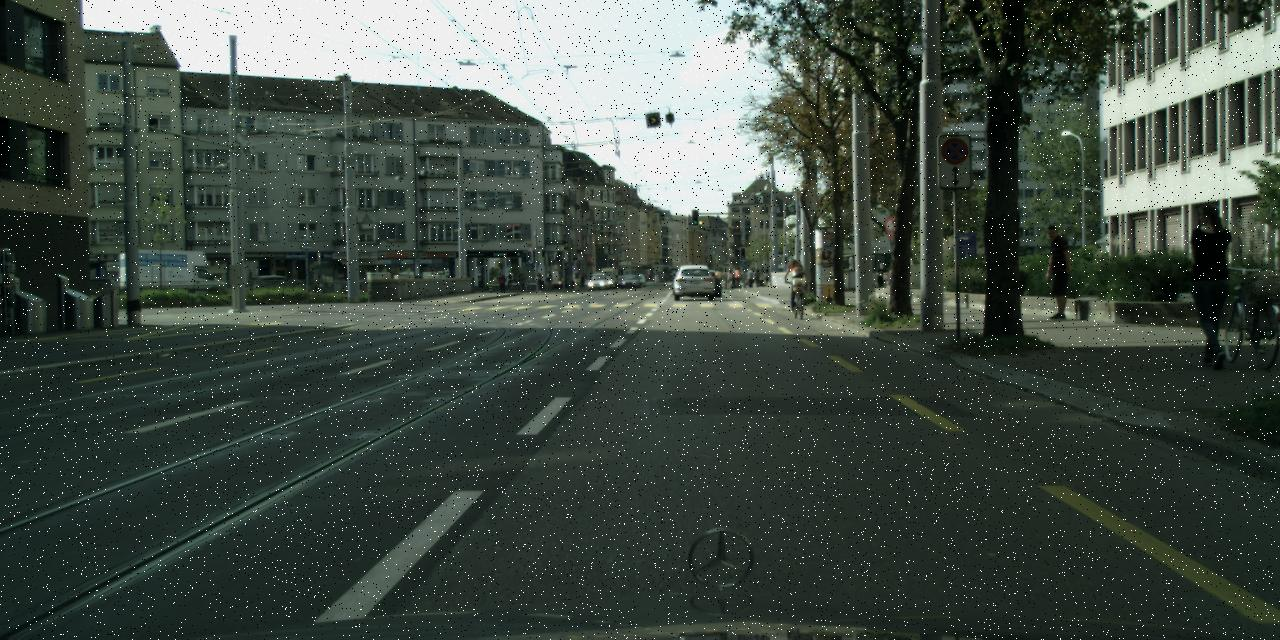ped: (1178, 204, 1244, 364), (1036, 224, 1074, 317), (786, 258, 805, 306), (875, 262, 889, 298), (544, 269, 552, 290), (505, 269, 513, 290), (498, 271, 506, 292), (725, 269, 733, 289), (733, 267, 741, 287), (763, 268, 771, 288), (572, 268, 580, 288), (534, 272, 542, 292), (729, 268, 737, 286), (747, 267, 754, 287), (754, 269, 761, 286), (518, 274, 525, 290), (579, 274, 584, 286), (660, 271, 664, 281)
